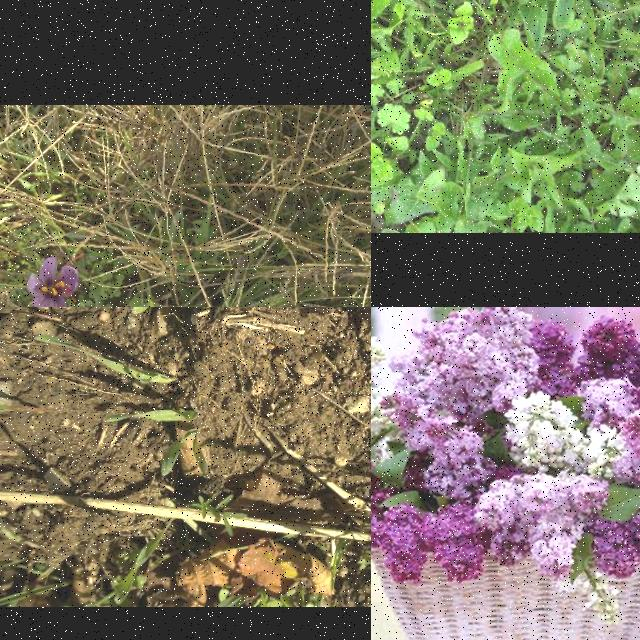flower: (27, 258, 78, 307)
